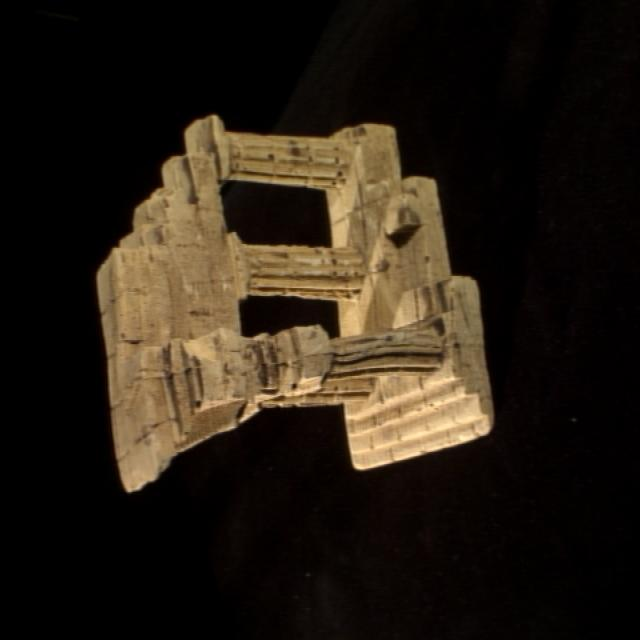Instance-Segmentation: (98, 116, 492, 491)
